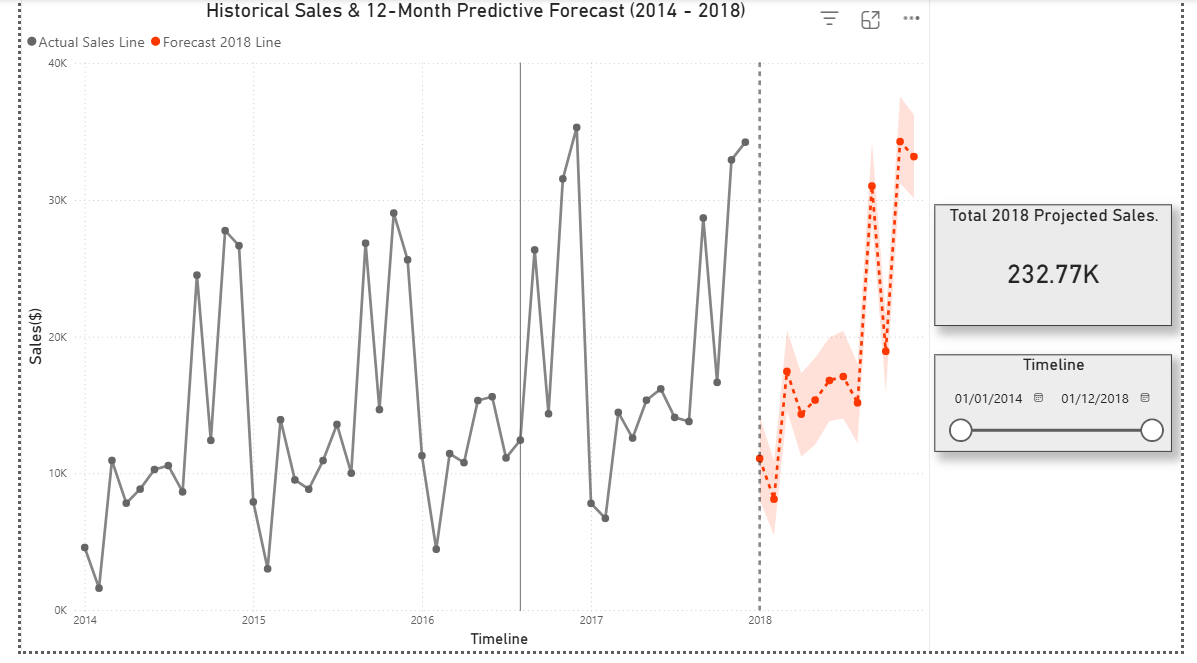

Layout of this report page (visuals, bound fields, positions):
{"tool":"powerbi","page":{"name":"Page 1","canvas":[1280,720],"ordinal":0},"visuals":[{"type":"lineChart","title":"Historical Sales & 12-Month Predictive Forecast (2014 - 2018)","fields":{"Category":["stores_sales_forecasting.ds"],"Y":["stores_sales_forecasting.Actual Sales Line","stores_sales_forecasting.Forecast 2018 Line"]},"box":[0,0,1003.8,720.8],"z":0},{"type":"slicer","title":"Timeline","fields":{"Values":["stores_sales_forecasting.ds"]},"box":[1009.4,392.5,262.3,107.5],"z":1000},{"type":"card","title":"Total 2018 Projected Sales.","fields":{"Values":["stores_sales_forecasting.Forecast 2018 Line"]},"box":[1009.4,226.4,262.3,134],"z":2000}]}

Visuals, with their boxes in screenshot pixels (x1, y1, x2, y2), scaled from the page's 1280x720 canvas onto the 1197x663 screenshot:
"Historical Sales & 12-Month Predictive Forecast (2014 - 2018)" lineChart: pyautogui.locateOnScreen(0, 0, 939, 662)
"Timeline" slicer: pyautogui.locateOnScreen(944, 361, 1189, 460)
"Total 2018 Projected Sales." card: pyautogui.locateOnScreen(944, 208, 1189, 332)
